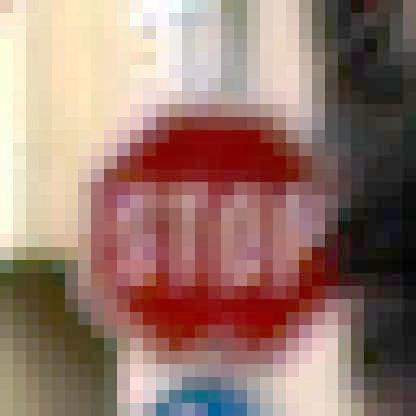Stop Sign: (72, 88, 355, 361)
